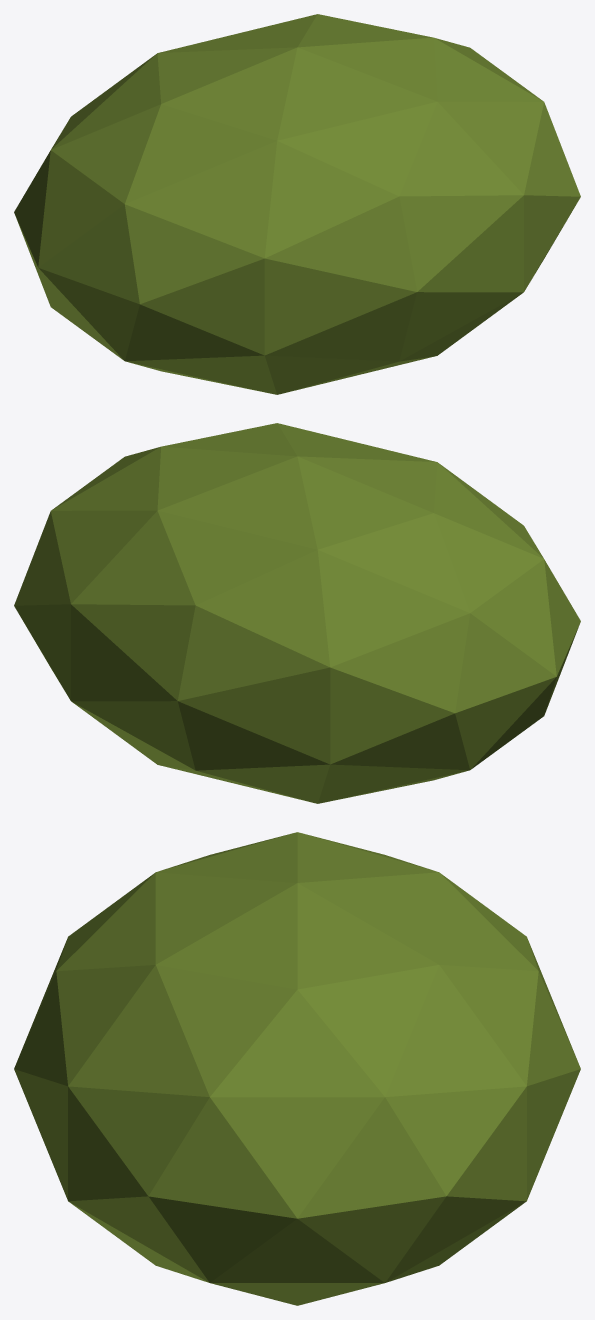
Rendered from Bush__Round.fbx.
3 views of the same model, one above another, from view 1: azimuth 30°, elevation 25°; view 2: azimuth 150°, elevation 25°; view 3: azimuth 270°, elevation 25° (orthographic). The views are drawn at different scales.
Visible parts, largest first — view 1: Bush__Round; view 2: Bush__Round; view 3: Bush__Round.
Boxes of the visible parts, box(x1,y1,x2,y2) form: Bush__Round: box(14, 14, 580, 394); Bush__Round: box(14, 423, 580, 803); Bush__Round: box(14, 832, 580, 1305).
Size of the model in its own units: 190 by 110 by 152.
Materials: 1 (1 with a texture image).
